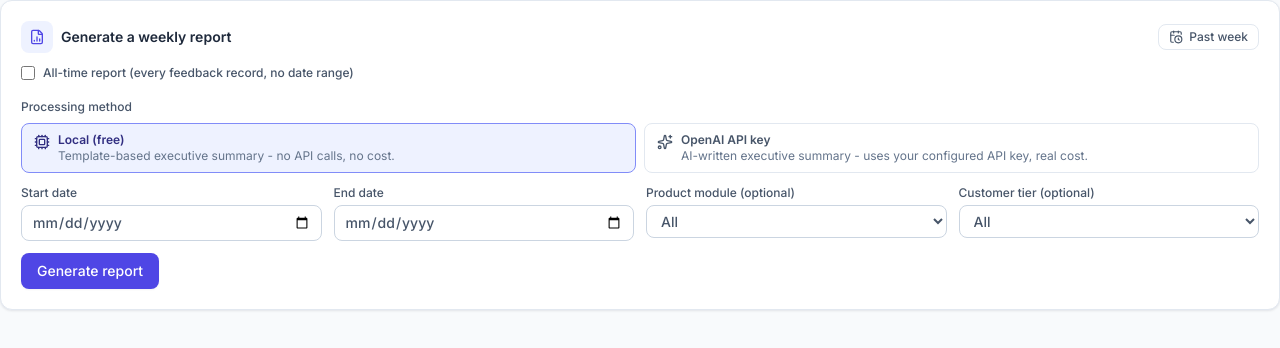
Test: ReportGenerationForm › blocks submission and shows an inline error when dates are missing
This screenshot has width=1280, height=348.
Click the button "Generate report".
click(90, 271)  # box [21,253,159,289]
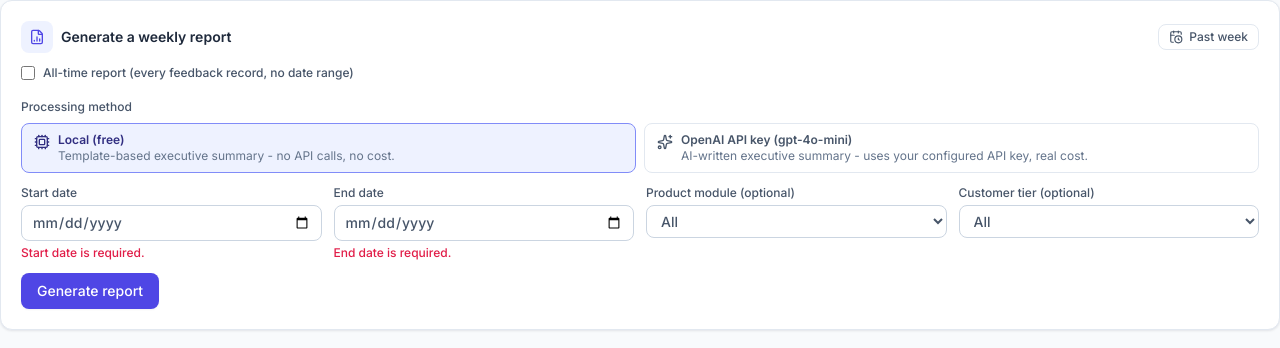
Expected: the text "Start date is required." is shown, [21,245,145,260]
